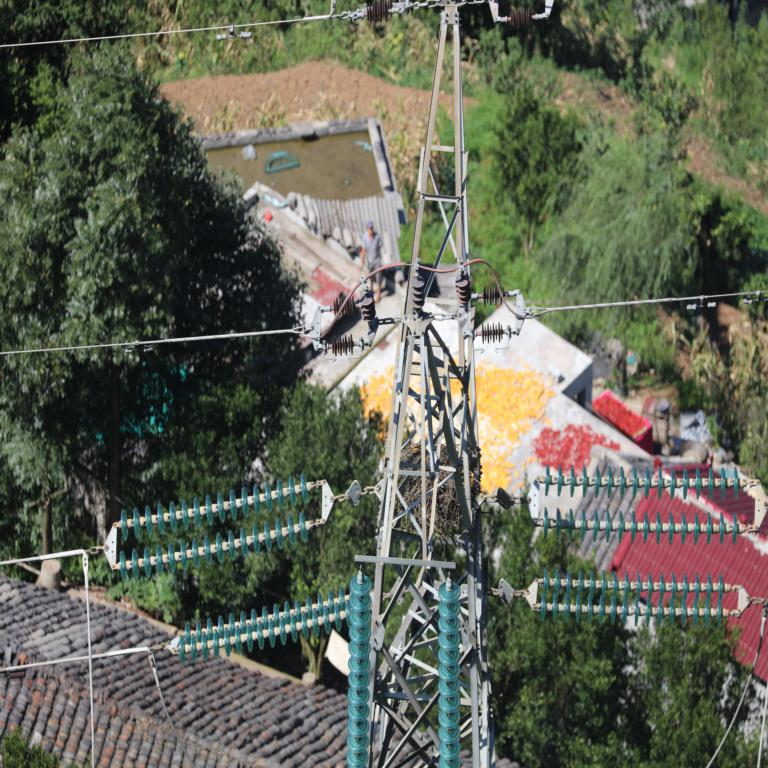nest: (397, 447, 482, 541)
